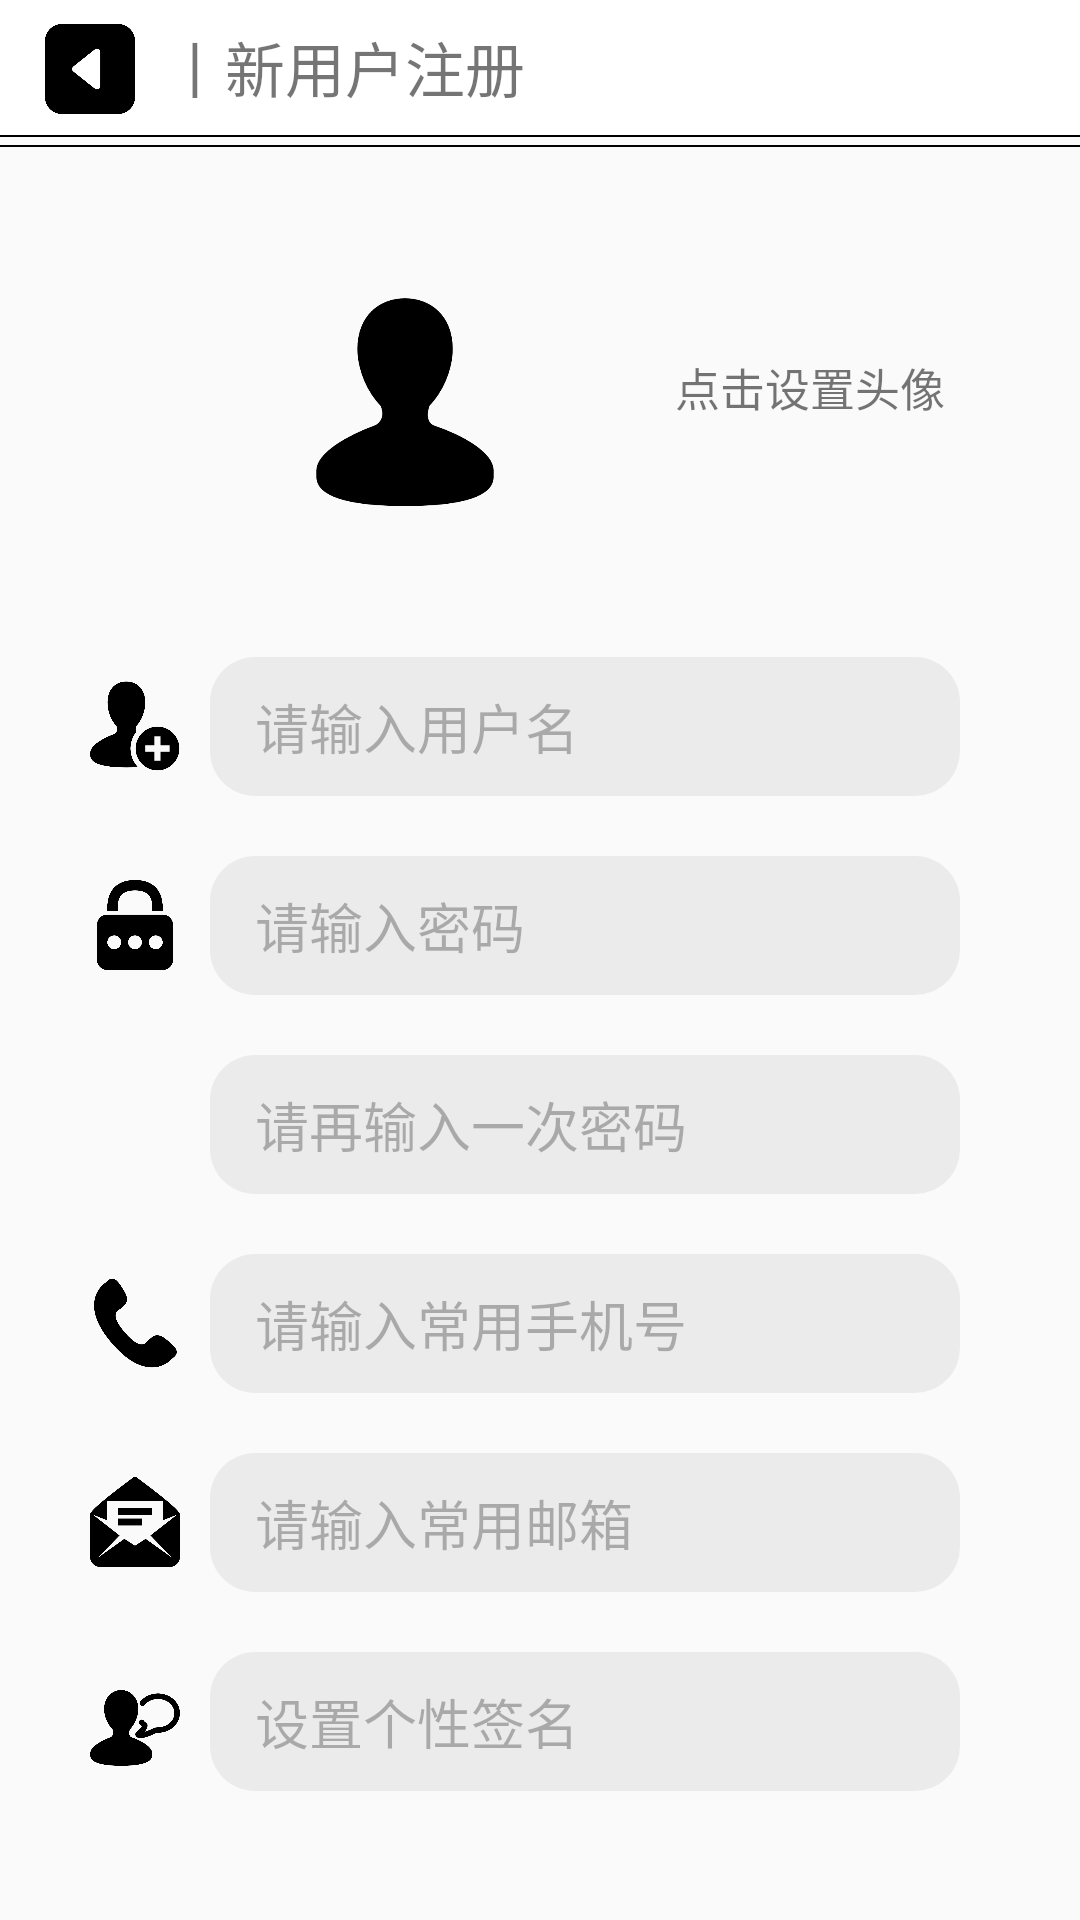

Where icons sit on this 1080×1920 app screen, as {"left": x1, "top": y1, "right": x2, "bottom": y2}:
add user: {"left": 90, "top": 681, "right": 179, "bottom": 771}
back: {"left": 45, "top": 24, "right": 135, "bottom": 114}
email: {"left": 90, "top": 1477, "right": 180, "bottom": 1567}
face: {"left": 316, "top": 298, "right": 494, "bottom": 506}
password: {"left": 97, "top": 880, "right": 173, "bottom": 970}
talk: {"left": 90, "top": 1690, "right": 180, "bottom": 1766}
